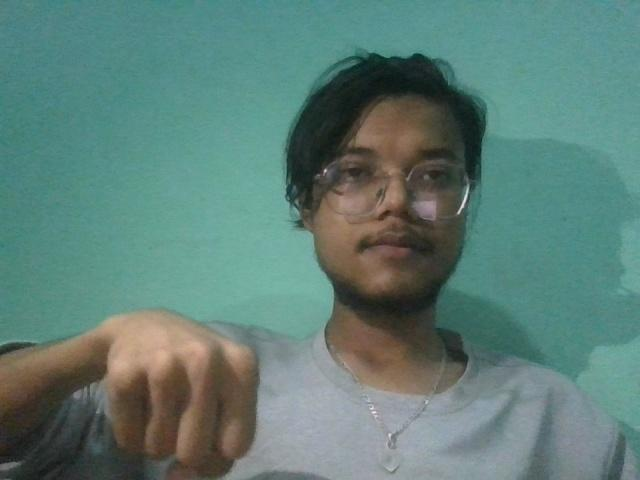Yes: (95, 308, 309, 464)
